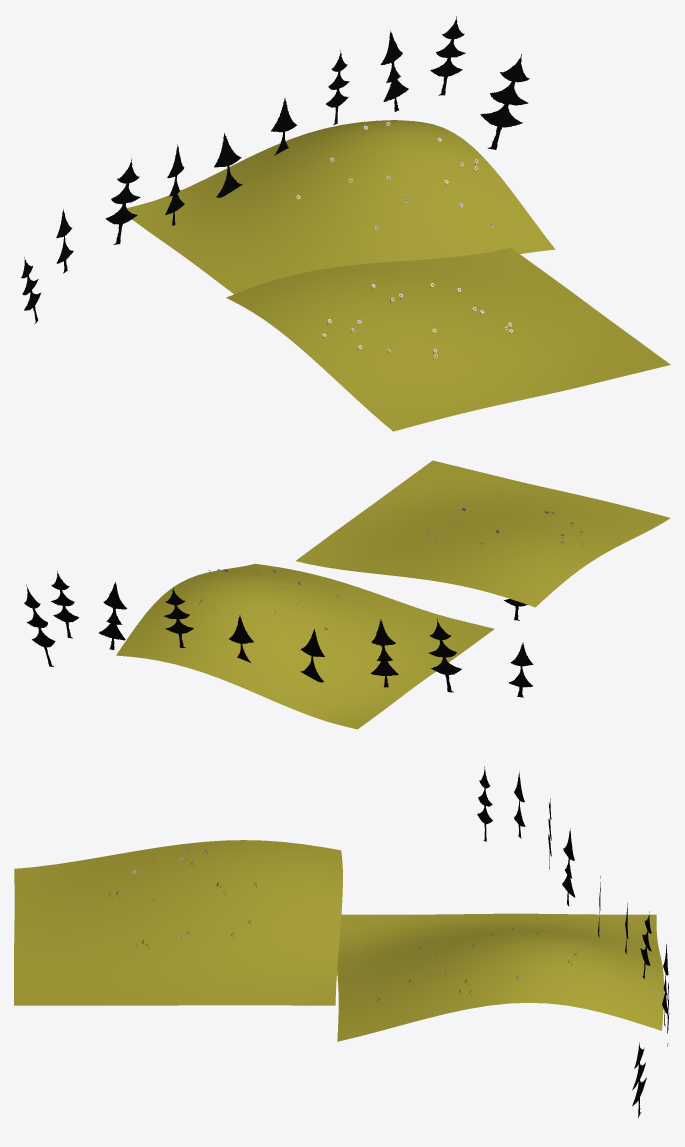
File: TitleGROUND.obj
3 views of the same model, one above another, from view 1: azimuth 30°, elevation 25°; view 2: azimuth 150°, elevation 25°; view 3: azimuth 270°, elevation 25° (orthographic). The views are drawn at different scales.
Parts seen in each view (by area): view 1: hills, trees; view 2: hills, trees; view 3: hills, trees.
Boxes of the visible parts, x1,y1,x2,y2 form: hills: (126, 120, 670, 431); trees: (21, 16, 529, 323); hills: (116, 460, 670, 729); trees: (24, 570, 533, 697); hills: (14, 840, 663, 1041); trees: (477, 766, 669, 1117).
Size of the model in its own units: 4.38 by 1.03 by 4.08.
Materials: 1 (1 with a texture image).
